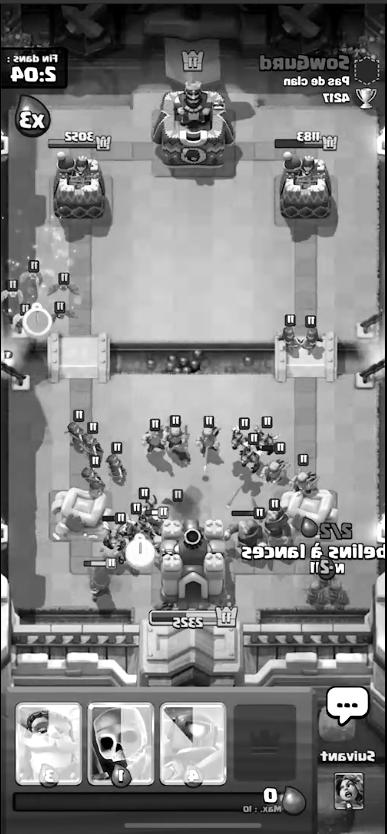archere: (277, 316, 298, 354), (106, 442, 124, 481), (82, 456, 102, 491), (83, 421, 100, 458), (304, 314, 321, 349), (66, 411, 84, 441)
bat: (48, 273, 80, 296), (163, 489, 188, 511), (21, 261, 43, 284), (51, 301, 76, 321), (2, 281, 21, 306)
chevalier: (225, 508, 263, 546), (265, 499, 288, 541)
gargouille: (238, 436, 263, 468), (103, 513, 124, 550), (126, 504, 148, 538), (138, 486, 160, 514), (230, 416, 248, 448), (256, 416, 274, 448)
gobelin_lances: (261, 444, 288, 481), (291, 453, 316, 491), (164, 416, 188, 453), (142, 419, 163, 451), (198, 416, 216, 451)
mousquetaire: (82, 559, 116, 604)
